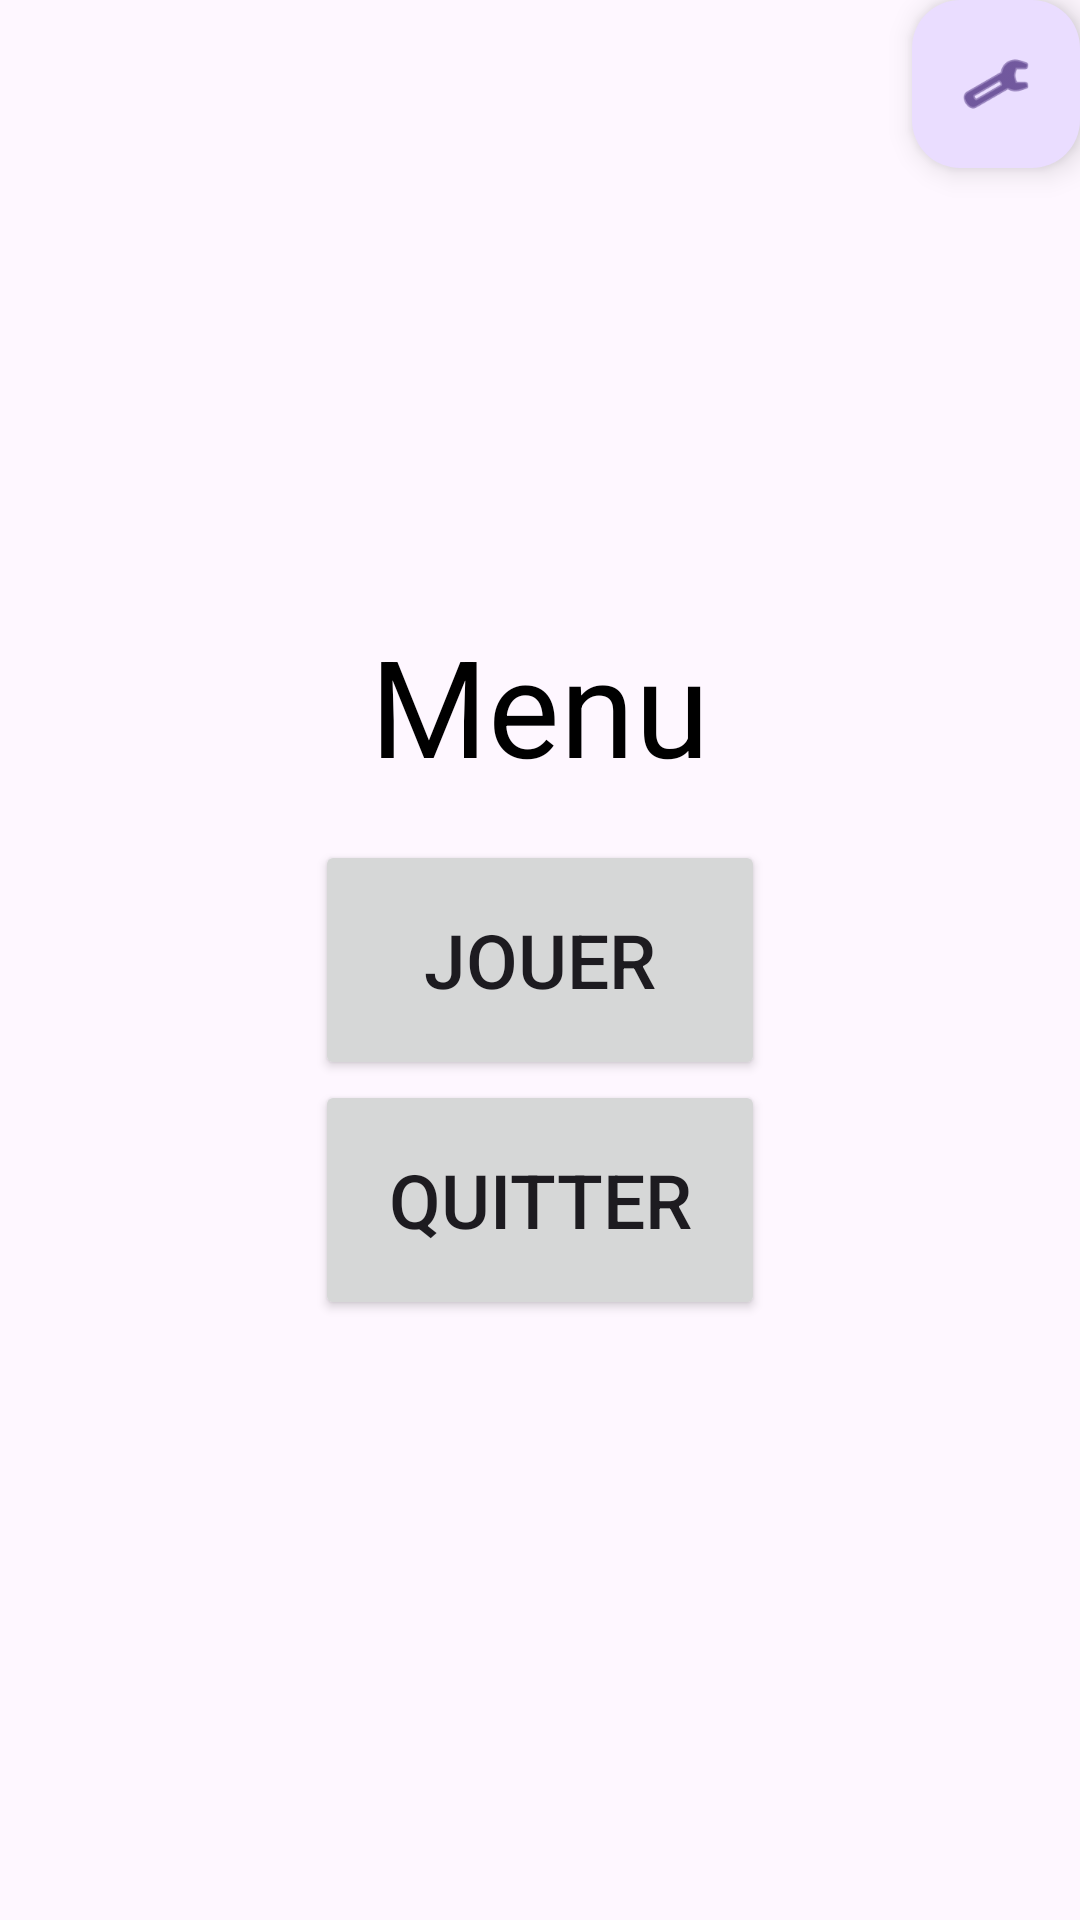

Locate icon controls on the screen. Image size 1080w x 1920h, boxes as (x1, y1, x2, y2).
preferences: (912, 0, 1080, 168)
